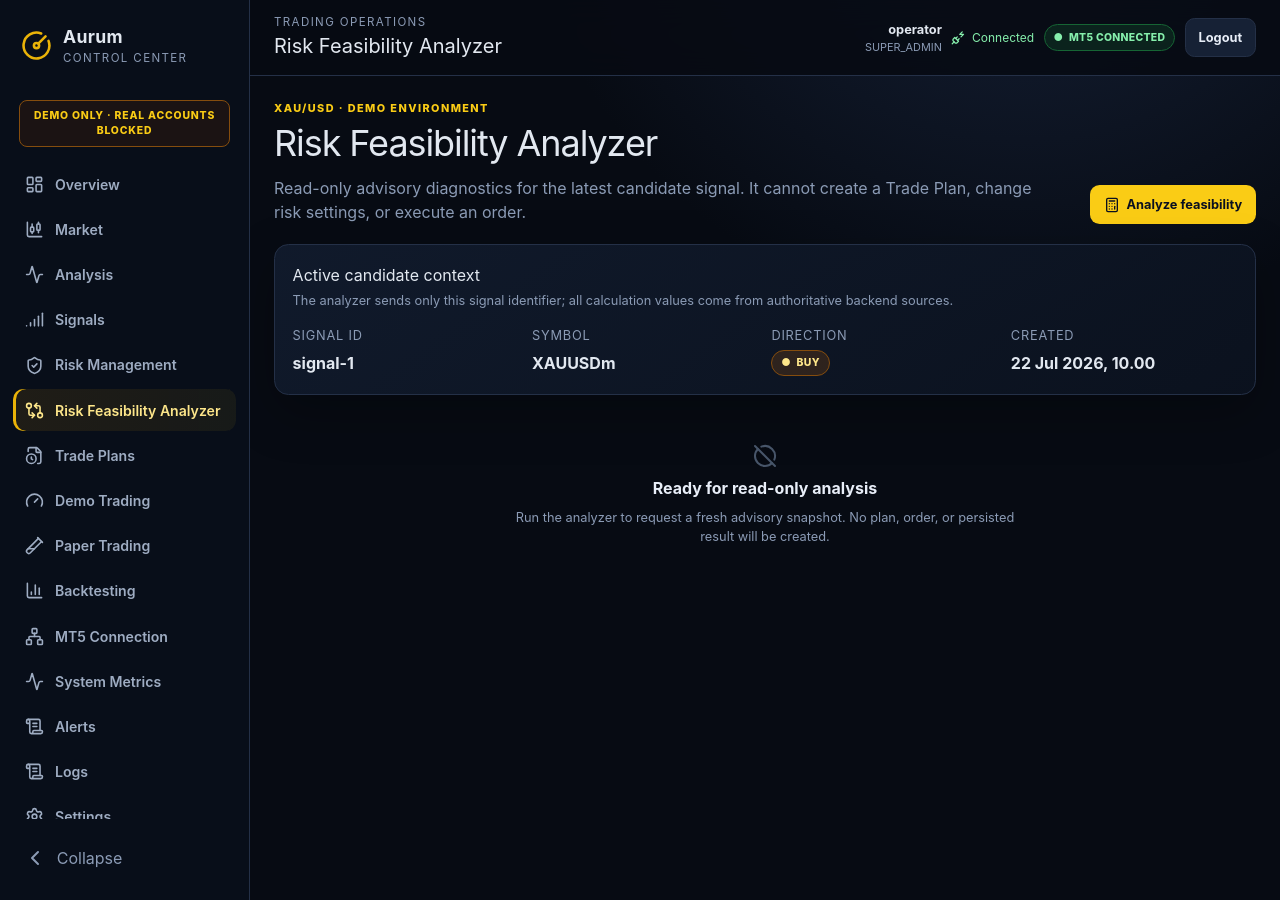
Scenario: Risk Feasibility Analyzer page › marks an already-expired response stale and hides all decision diagnostics
The width and height of the screenshot is (1280, 900).
Click the button "Analyze feasibility" at coordinates (1173, 204), box [1090, 185, 1256, 224]
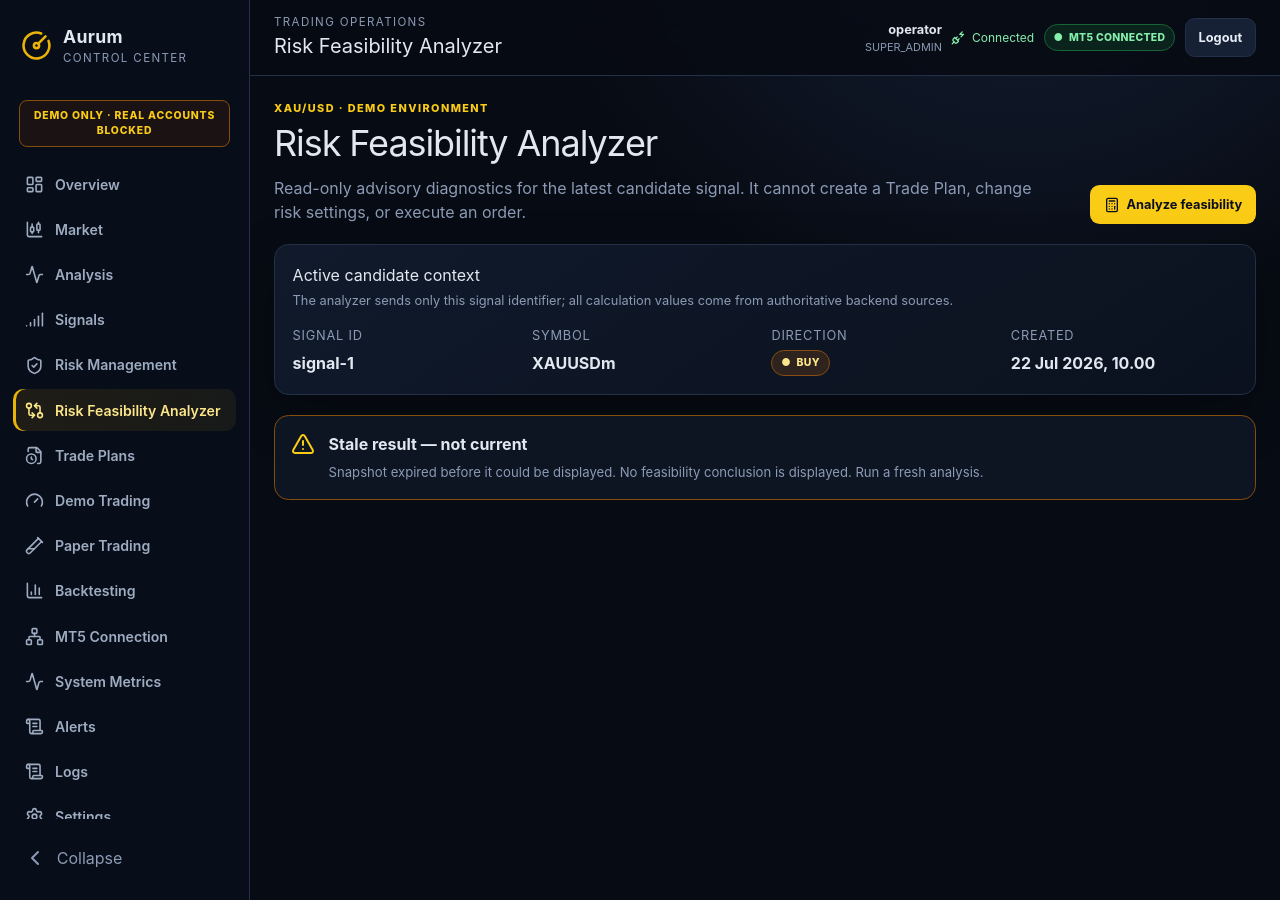
Result: the text "Stale result — not current" is shown at [329, 434, 528, 454]
